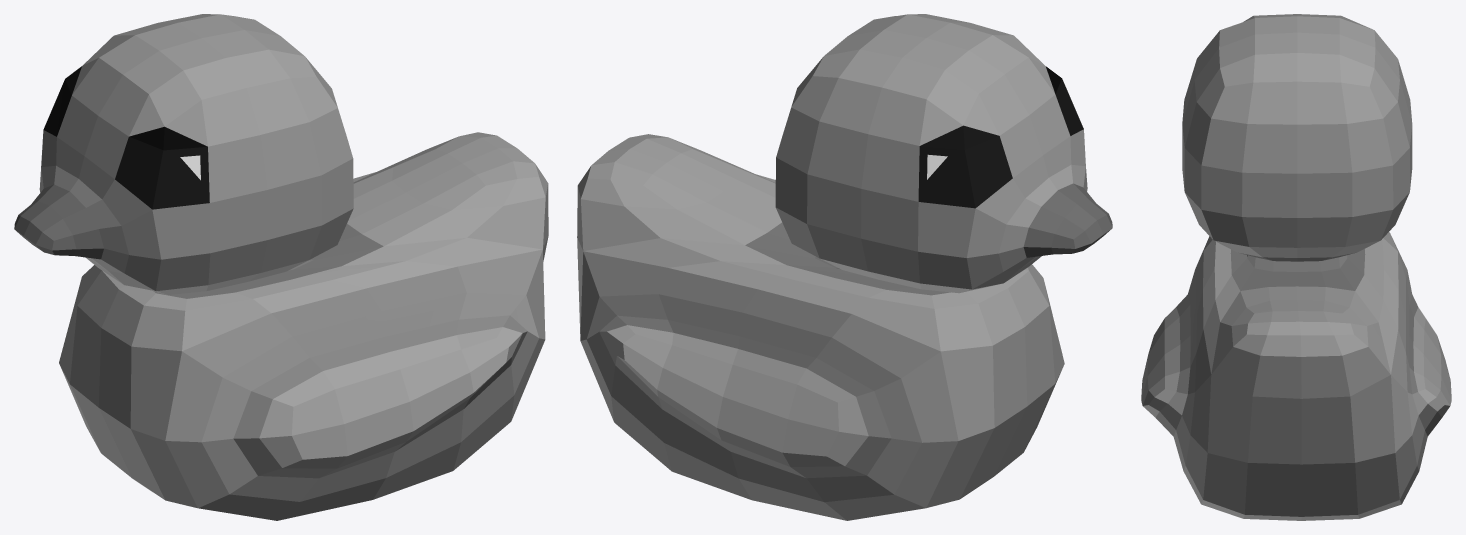
Rendered from RubberDuckModel.fbx.
3 renders of one model, left to right at view 1: azimuth 30°, elevation 25°; view 2: azimuth 150°, elevation 25°; view 3: azimuth 270°, elevation 25°, orthographic. The views are drawn at different scales.
Visible parts, largest first — view 1: Duck; view 2: Duck; view 3: Duck.
Part boxes in pixels (x1,y1,x2,y2): Duck: (14,14,548,520); Duck: (577,14,1112,520); Duck: (1141,14,1451,520).
Bounding box in the file's own units: 26.16 × 22.92 × 15.82.
